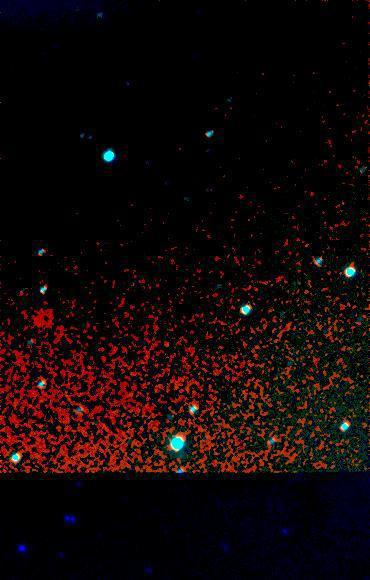star: (151, 330, 181, 360)
